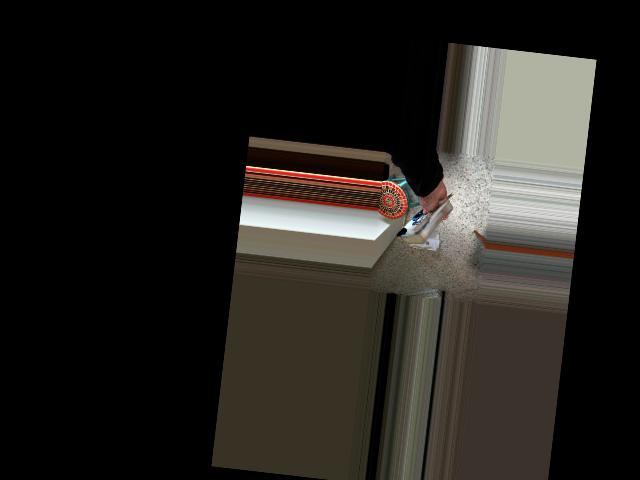cheese: (386, 176, 462, 258)
